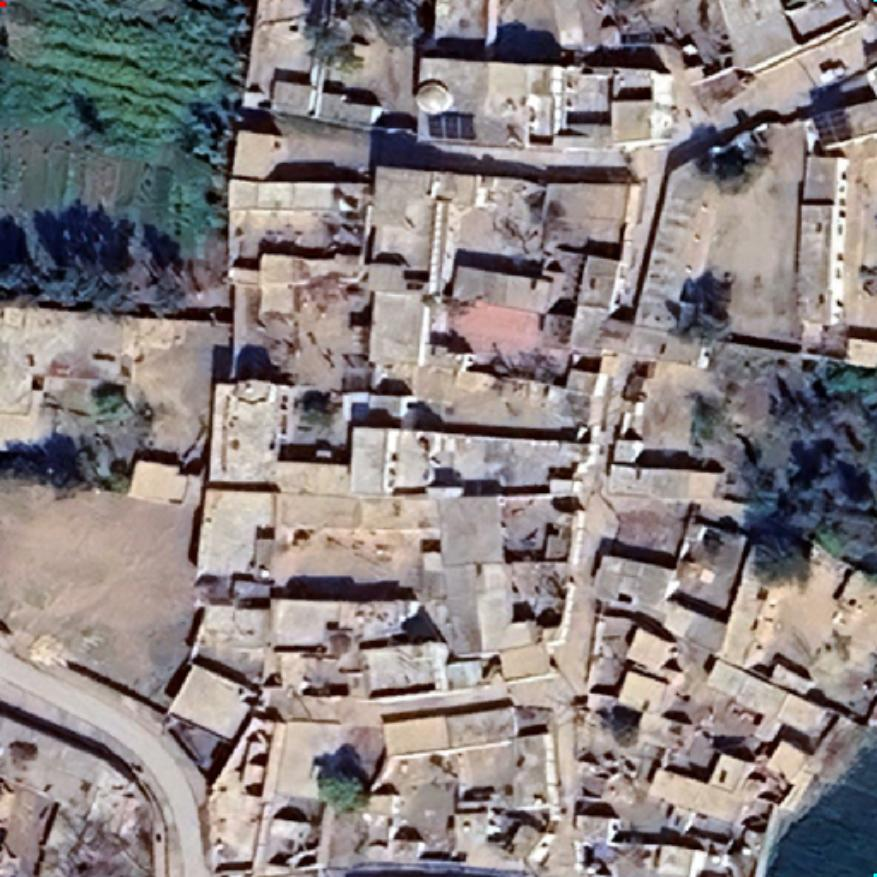Solarpanel: (426, 106, 480, 144), (810, 105, 856, 148)
